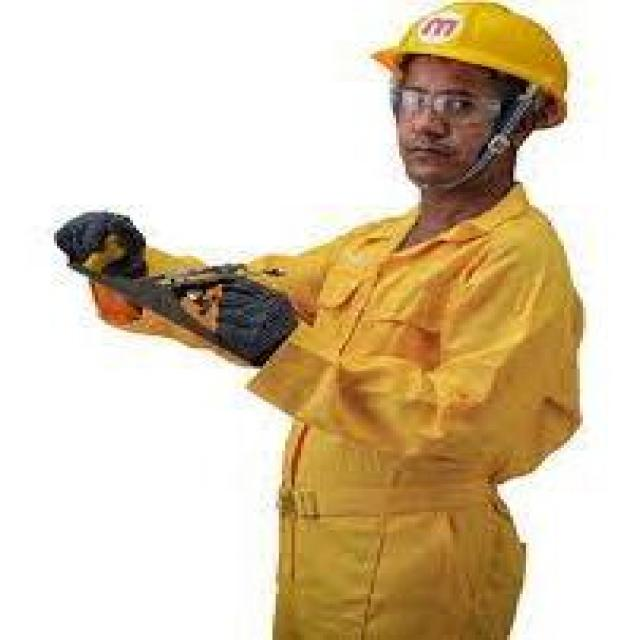Safety-Helmet: (367, 0, 583, 100)
